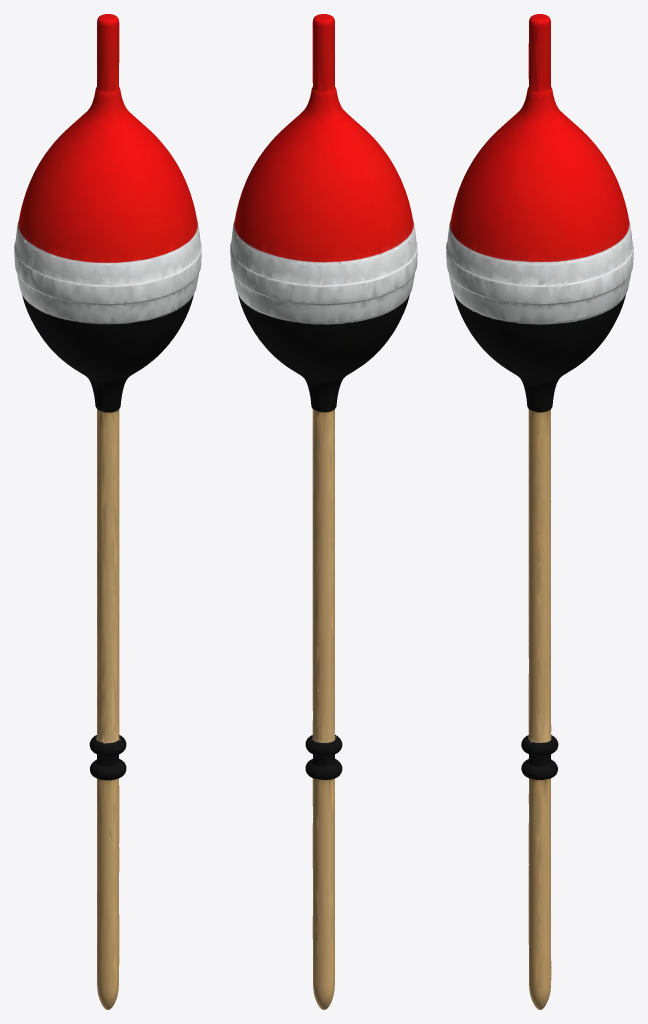
File: float_stick.glb
The picture shows the model from 3 angles, left to right: view 1: azimuth 30°, elevation 25°; view 2: azimuth 150°, elevation 25°; view 3: azimuth 270°, elevation 25°; orthographic projection.
Parts seen in each view (by area): view 1: Mesh_0; view 2: Mesh_0; view 3: Mesh_0.
Boxes of the visible parts, x1=… form: Mesh_0: x1=14, y1=14, x2=201, y2=1009; Mesh_0: x1=230, y1=14, x2=417, y2=1009; Mesh_0: x1=446, y1=14, x2=633, y2=1009.
Size of the model in its own units: 0.3262 by 1.9 by 0.3264.
1 material, 1 textured.
